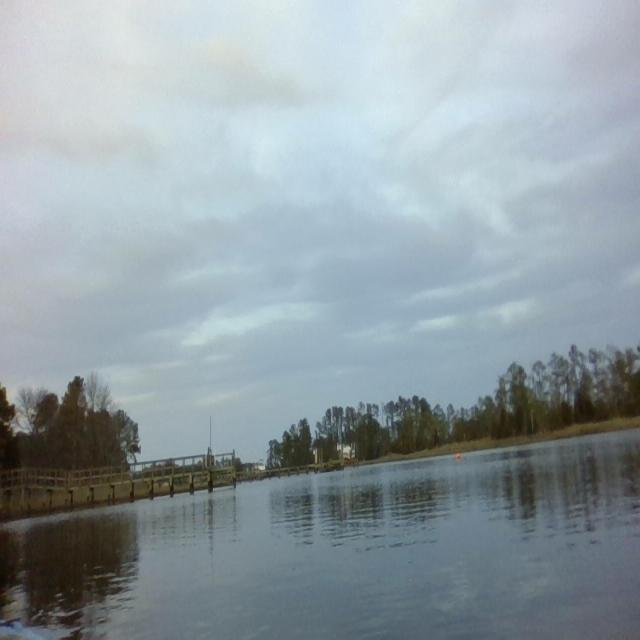Buoy: (455, 451, 462, 460)
